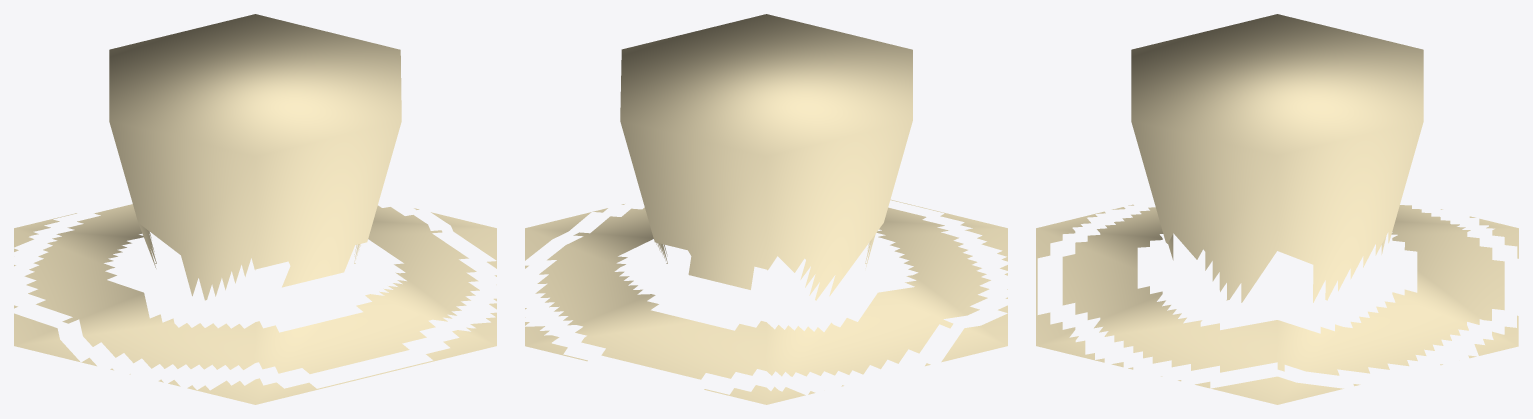
Rendered from Hat3.FBX.
3 views of the same model, side by side, from view 1: azimuth 30°, elevation 25°; view 2: azimuth 150°, elevation 25°; view 3: azimuth 270°, elevation 25° (orthographic).
Visible parts, largest first — view 1: Cylinder001; view 2: Cylinder001; view 3: Cylinder001.
Boxes of the visible parts, box(x1,y1,x2,y2) form: Cylinder001: box(14, 14, 496, 404); Cylinder001: box(525, 14, 1007, 404); Cylinder001: box(1036, 14, 1518, 404).
Bounding box in the file's own units: 36.28 × 14.53 × 31.42.
